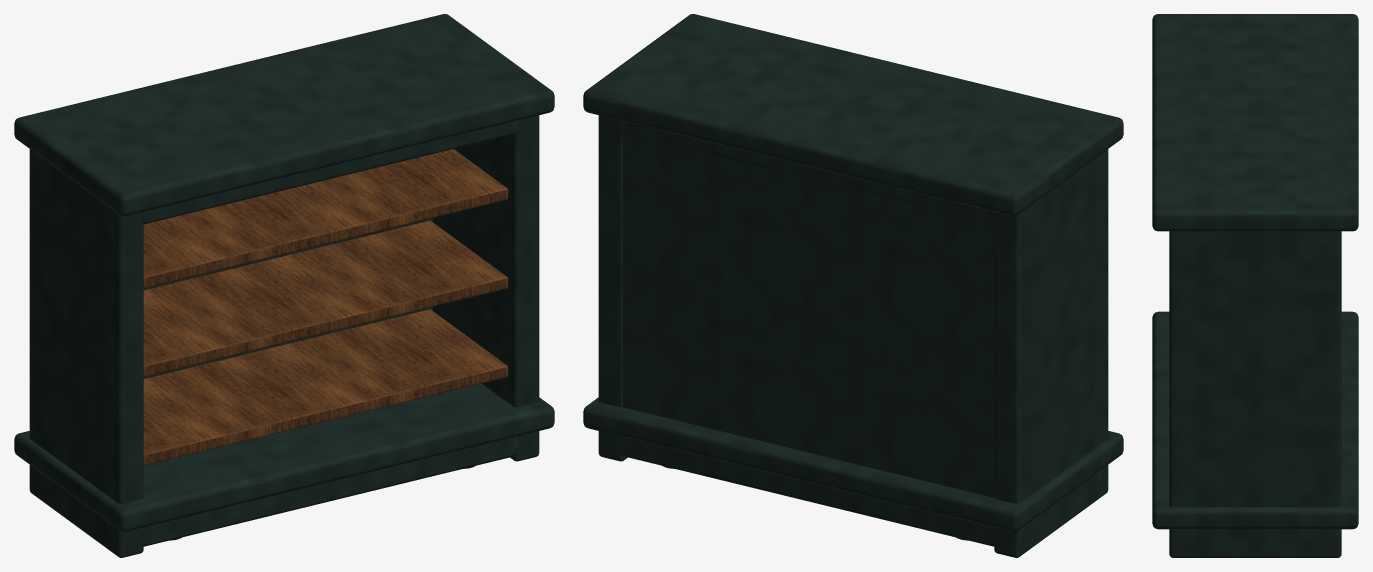
Rendered from ToolBody.fbx.
The picture shows the model from 3 angles, left to right: view 1: azimuth 30°, elevation 25°; view 2: azimuth 150°, elevation 25°; view 3: azimuth 270°, elevation 25°; orthographic projection. The views are drawn at different scales.
Parts seen in each view (by area): view 1: ToolBody_MotorPaint, ToolBody_SmokedOak; view 2: ToolBody_MotorPaint; view 3: ToolBody_MotorPaint.
Boxes of the visible parts, <box> form: ToolBody_MotorPaint: <box>14,14,554,557</box>; ToolBody_SmokedOak: <box>143,149,508,465</box>; ToolBody_MotorPaint: <box>583,14,1123,557</box>; ToolBody_MotorPaint: <box>1152,14,1358,557</box>.
Size of the model in its own units: 154 by 126 by 67.
